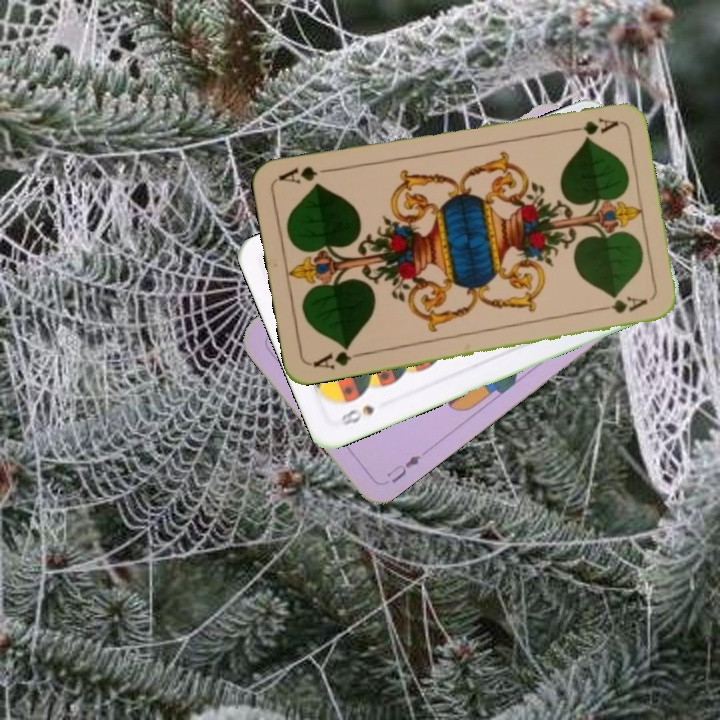EU: (382, 450, 424, 486)
GA: (308, 341, 367, 372), (562, 113, 621, 138)
S8: (333, 401, 377, 429)
